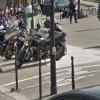Motorcycle: (6, 20, 70, 70)
